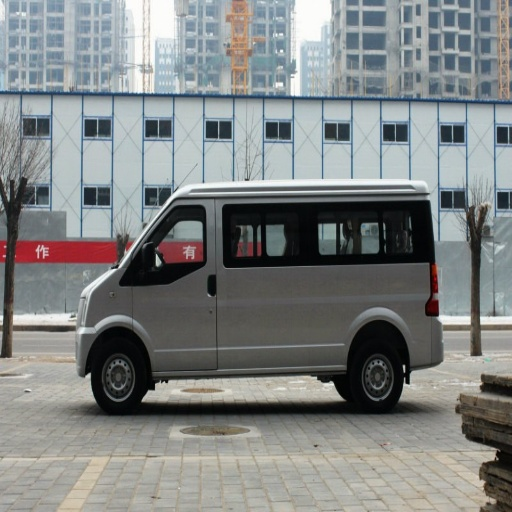back_left_door: (266, 273, 319, 362)
trunk: (320, 266, 445, 368)
